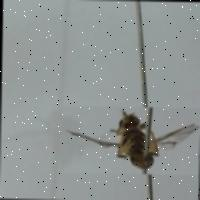Oriental-fruit-fly: (60, 106, 198, 174)
